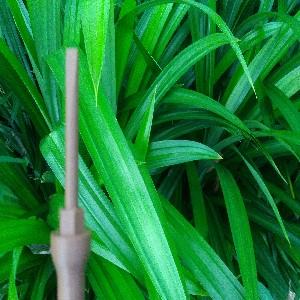obeng: (49, 48, 93, 300)
